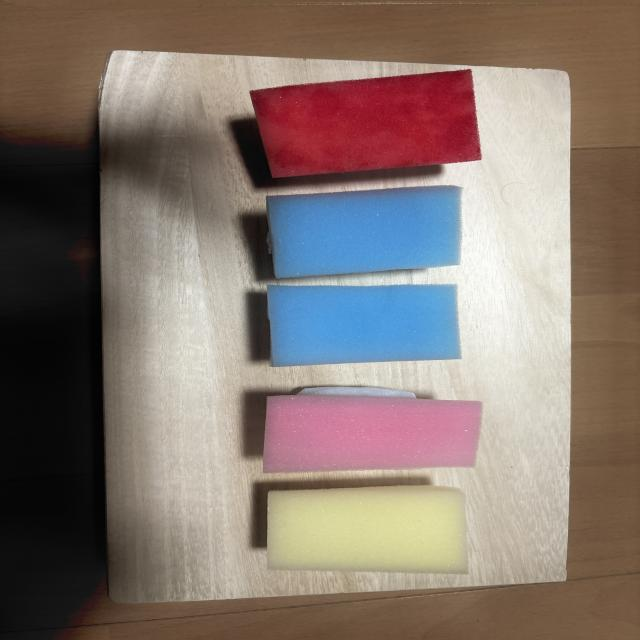ika: (266, 186, 462, 279), (268, 284, 461, 367)
maguro: (251, 70, 481, 177)
tai: (263, 387, 482, 472)
tamago: (267, 485, 467, 573)
